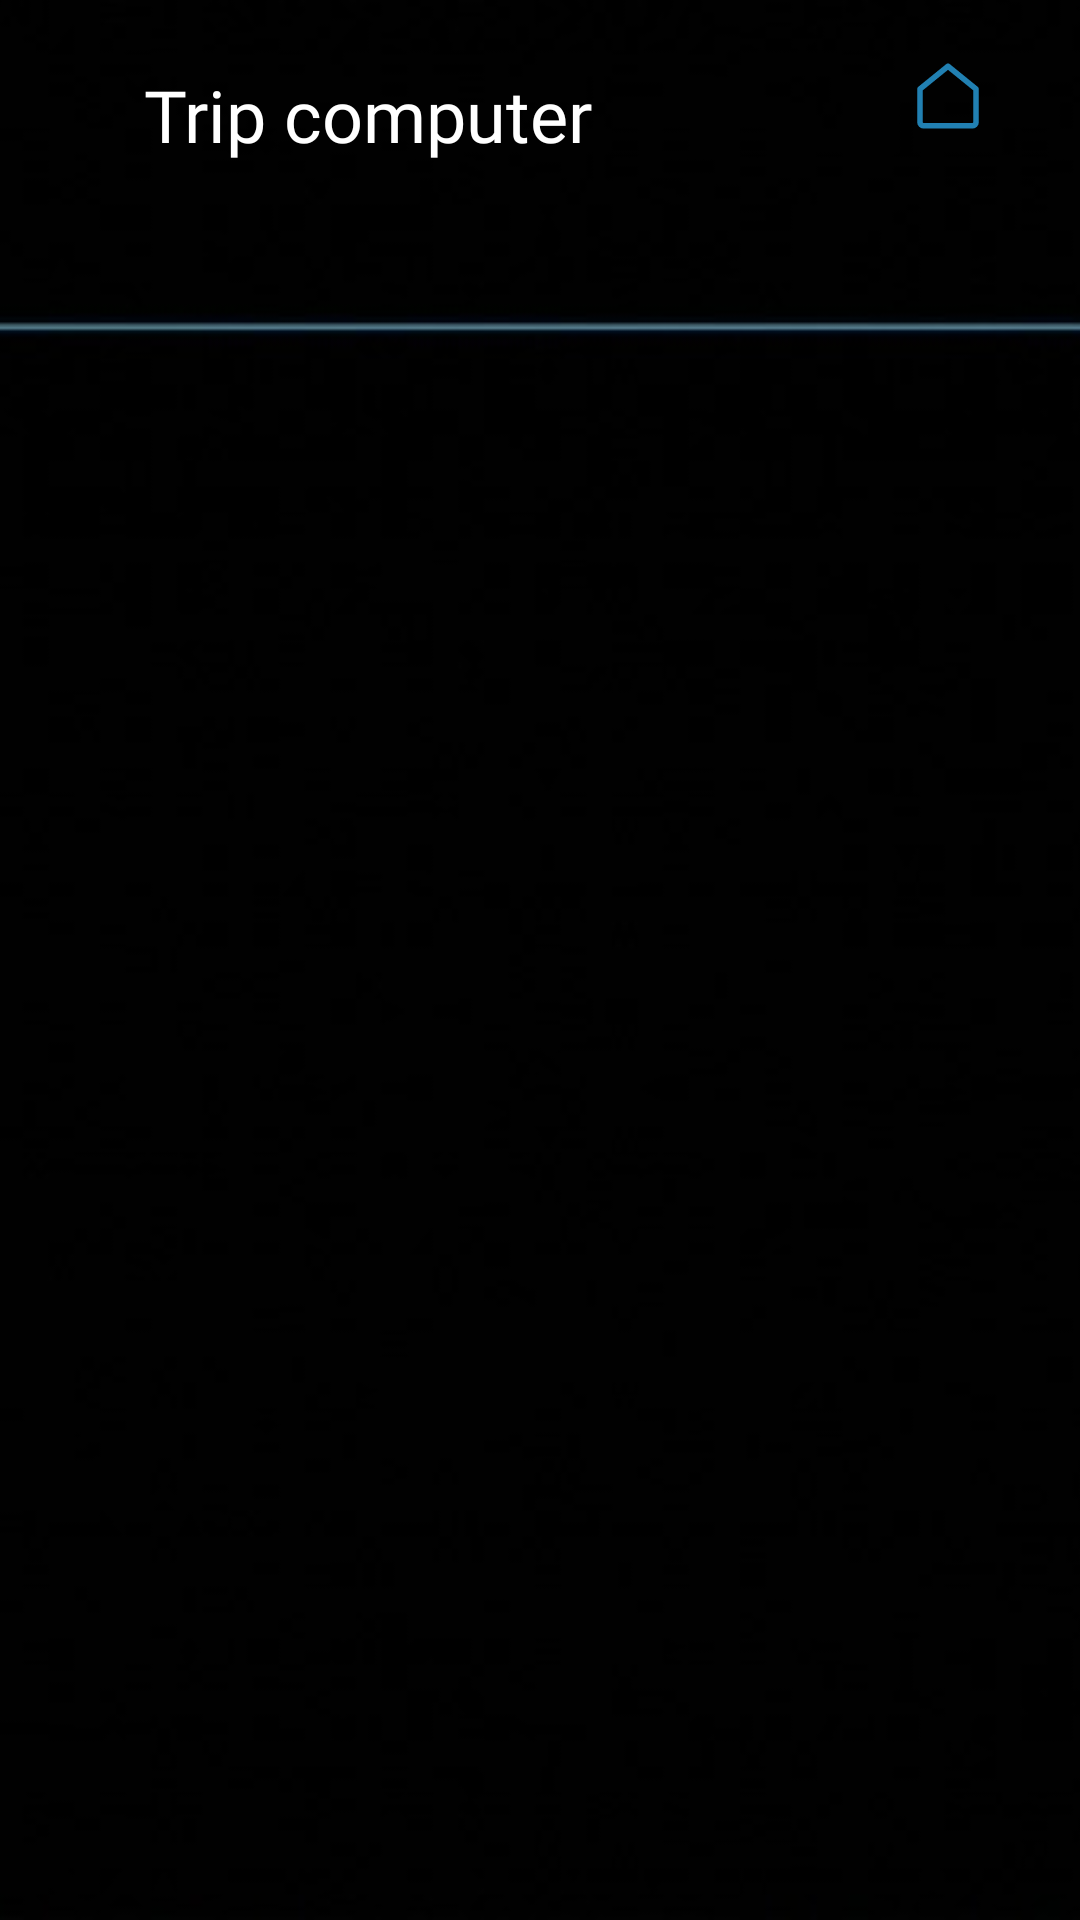

Icons on this 1080×1920 Android screen, each with its box as (x1, y1, x2, y2):
Home: (917, 63, 979, 129)
